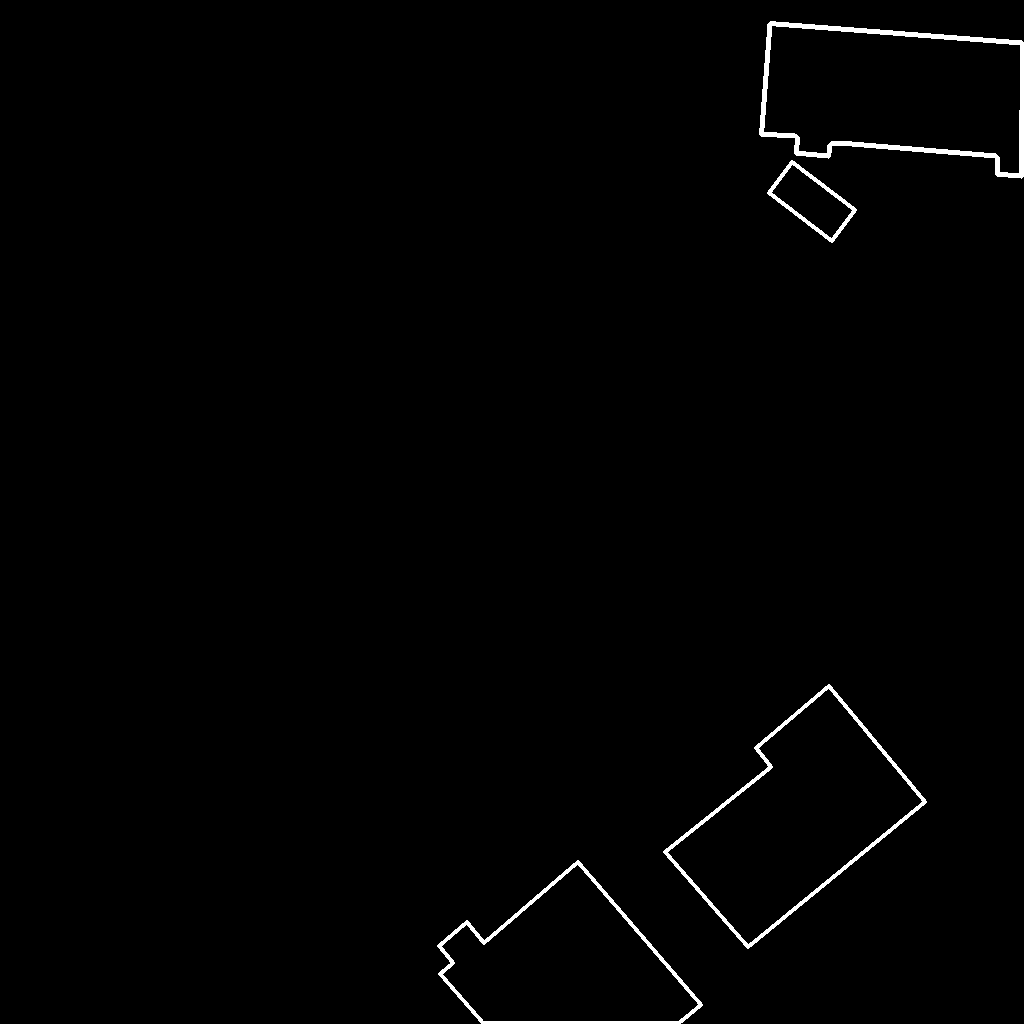building: (665, 686, 926, 948), (439, 862, 702, 1024), (761, 23, 1024, 177), (769, 162, 856, 242)
